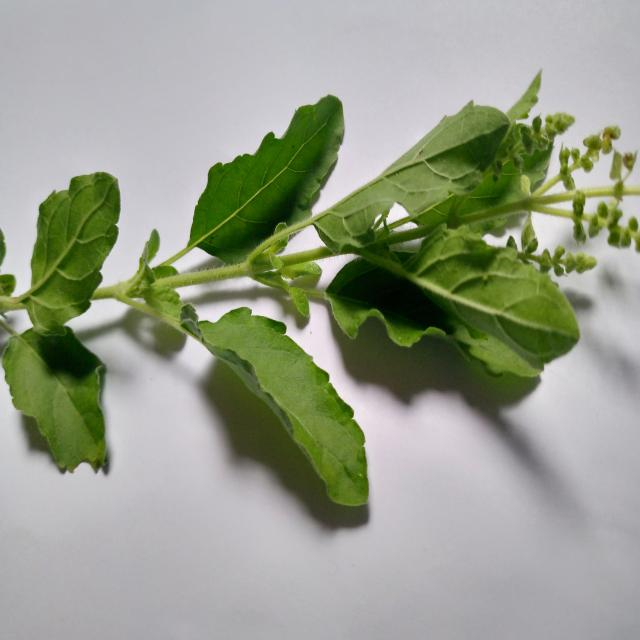tulsi: (0, 66, 640, 522)
